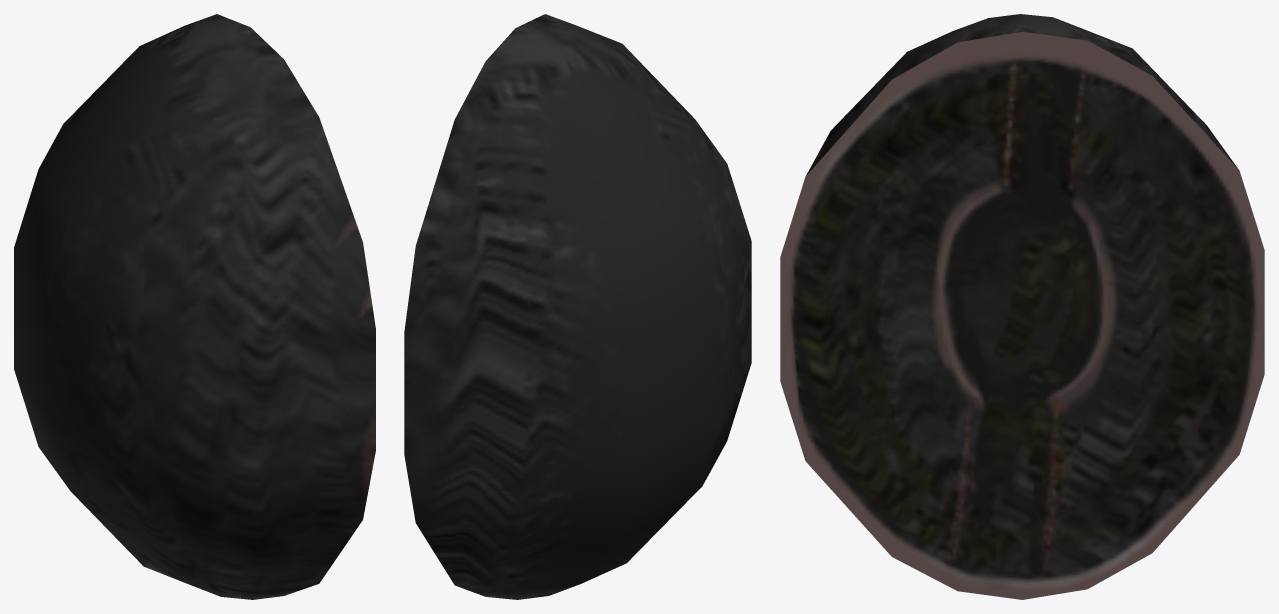
The model's file is SM_Olive.fbx.
3 views of the same model, side by side, from view 1: azimuth 30°, elevation 25°; view 2: azimuth 150°, elevation 25°; view 3: azimuth 270°, elevation 25° (orthographic). The views are drawn at different scales.
Parts seen in each view (by area): view 1: SM_Olive; view 2: SM_Olive; view 3: SM_Olive.
Part boxes in pixels (<box>): SM_Olive: <box>14,14,375,599</box>; SM_Olive: <box>404,14,751,599</box>; SM_Olive: <box>780,14,1264,599</box>.
Size of the model in its own units: 0.135 by 0.3379 by 0.261.
